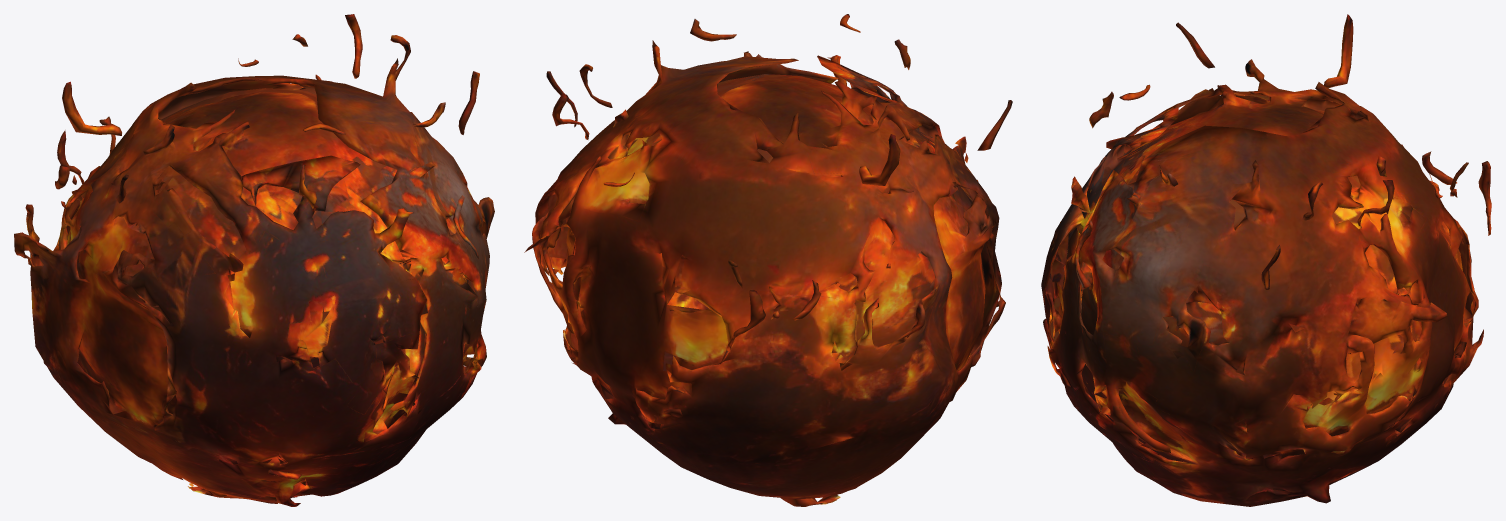
The model's file is deb1ed57-f769-4c5b-bfd1-b9dd0c90410e.glb.
The picture shows the model from 3 angles, left to right: view 1: azimuth 30°, elevation 25°; view 2: azimuth 150°, elevation 25°; view 3: azimuth 270°, elevation 25°; orthographic projection. The views are drawn at different scales.
Bounding box in the file's own units: 1.82 × 1.74 × 1.73.
1 material, 1 textured.
